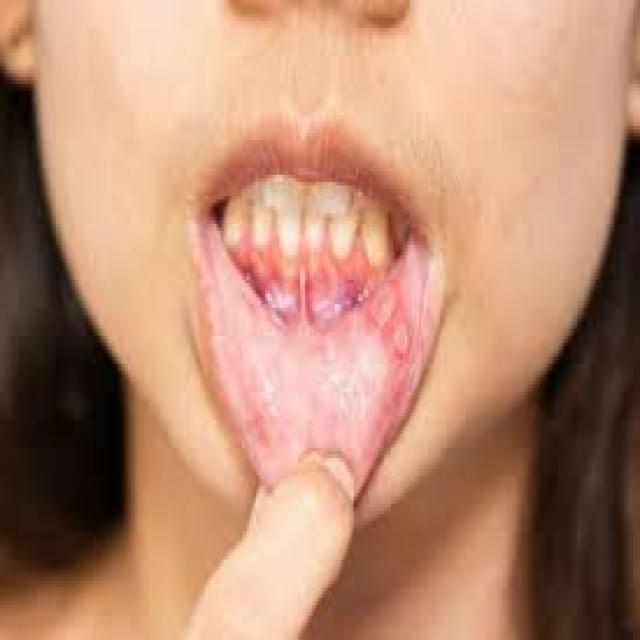processing_area: (197, 231, 438, 488)
ulcer-detection: (347, 270, 419, 395)
